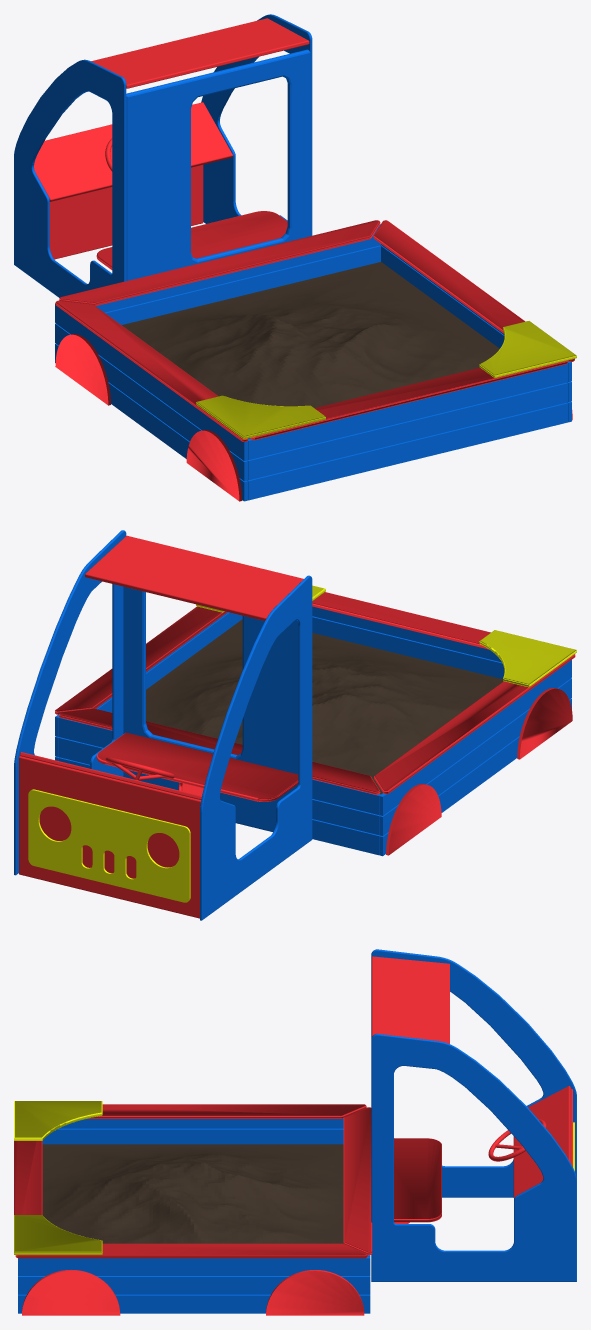
3 renders of one model, top to bottom at view 1: azimuth 30°, elevation 25°; view 2: azimuth 150°, elevation 25°; view 3: azimuth 270°, elevation 25°, orthographic. The views are drawn at different scales.
Visible parts, largest first — view 1: D_19_1; view 2: D_19_1; view 3: D_19_1.
Part boxes in pixels (x1,y1,x2,y2): D_19_1: [14, 14, 576, 501]; D_19_1: [14, 530, 576, 920]; D_19_1: [14, 949, 576, 1315].
Size of the model in its own units: 182 by 139 by 286.
